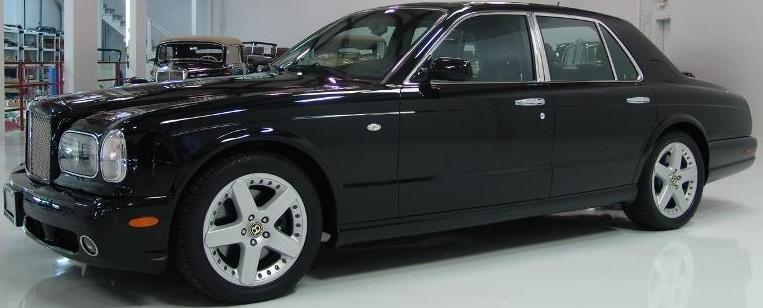front_view: (5, 96, 173, 272)
headlight: (52, 121, 136, 189)
side_glass: (401, 9, 649, 92)
